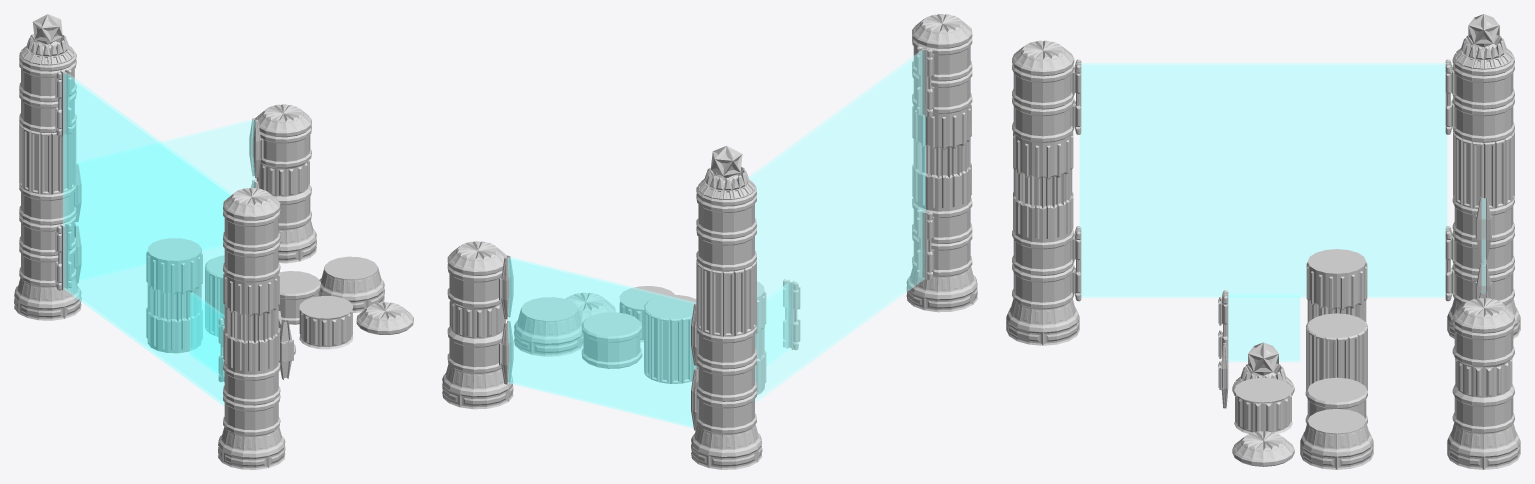
File: ShieldFence.fbx
3 renders of one model, left to right at view 1: azimuth 30°, elevation 25°; view 2: azimuth 150°, elevation 25°; view 3: azimuth 270°, elevation 25°, orthographic. The views are drawn at different scales.
Parts seen in each view (by area): view 1: ShieldFencePillar_ForceField.002, ShieldFencePillar_ForceField.001, ShieldFencePillar_LongPowerPillar.001, ShieldFencePillar_LongPowerPillar.002, ShieldFencePillar_Pillar.001, ShieldFencePillar_Foundation, ShieldFencePillar_PowerPillar, ShieldFencePillar_Foundation.003, ShieldFencePillar_Foundation.002, ShieldFencePillar_ForceField, ShieldFencePillar_Holder.010, ShieldFencePillar_Holder.012 (+22 smaller); view 2: ShieldFencePillar_ForceField.002, ShieldFencePillar_ForceField.001, ShieldFencePillar_LongPowerPillar.002, ShieldFencePillar_Pillar, ShieldFencePillar_Pillar.001, ShieldFencePillar_Foundation, ShieldFencePillar_Holder, ShieldFencePillar_Foundation.002, ShieldFencePillar_Foundation.003, ShieldFencePillar_Foundation.001, ShieldFencePillar_Holder.002, ShieldFencePillar_Holder.006 (+23 smaller); view 3: ShieldFencePillar_ForceField.002, ShieldFencePillar_LongPowerPillar.002, ShieldFencePillar_ForceField, ShieldFencePillar_Pillar.001, ShieldFencePillar_Pillar, ShieldFencePillar_LongPowerPillar.001, ShieldFencePillar_Foundation, ShieldFencePillar_PowerPillar, ShieldFencePillar_Foundation.003, ShieldFencePillar_Foundation.001, ShieldFencePillar_Holder.001, ShieldFencePillar_Holder.003 (+24 smaller).
Boxes of the visible parts, x1,y1,x2,y2 form: ShieldFencePillar_ForceField.002: (63, 72, 231, 406); ShieldFencePillar_ForceField.001: (76, 119, 254, 280); ShieldFencePillar_LongPowerPillar.001: (146, 238, 202, 353); ShieldFencePillar_LongPowerPillar.002: (223, 273, 279, 374); ShieldFencePillar_Pillar.001: (19, 122, 76, 194); ShieldFencePillar_Foundation: (319, 256, 384, 312); ShieldFencePillar_PowerPillar: (299, 296, 353, 349); ShieldFencePillar_Foundation.003: (218, 427, 285, 469); ShieldFencePillar_Foundation.002: (14, 277, 81, 320); ShieldFencePillar_ForceField: (190, 293, 224, 374); ShieldFencePillar_Holder.010: (223, 361, 280, 405); ShieldFencePillar_Holder.012: (223, 209, 280, 251); ShieldFencePillar_ForceField.002: (748, 50, 925, 402); ShieldFencePillar_ForceField.001: (508, 257, 696, 427); ShieldFencePillar_LongPowerPillar.002: (912, 104, 971, 211); ShieldFencePillar_Pillar: (644, 295, 698, 383); ShieldFencePillar_Pillar.001: (696, 259, 756, 336); ShieldFencePillar_Foundation: (514, 297, 583, 356); ShieldFencePillar_Holder: (581, 312, 642, 368); ShieldFencePillar_Foundation.002: (691, 424, 762, 469); ShieldFencePillar_Foundation.003: (906, 267, 977, 312); ShieldFencePillar_Foundation.001: (442, 364, 513, 409); ShieldFencePillar_Holder.002: (696, 389, 756, 434); ShieldFencePillar_Holder.006: (696, 227, 756, 271); ShieldFencePillar_ForceField.002: (1080, 63, 1446, 297); ShieldFencePillar_LongPowerPillar.002: (1013, 132, 1073, 242); ShieldFencePillar_ForceField: (1228, 294, 1299, 361); ShieldFencePillar_Pillar.001: (1453, 130, 1514, 208); ShieldFencePillar_Pillar: (1306, 313, 1367, 390); ShieldFencePillar_LongPowerPillar.001: (1306, 249, 1367, 324); ShieldFencePillar_Foundation: (1300, 409, 1373, 469); ShieldFencePillar_PowerPillar: (1234, 377, 1292, 433); ShieldFencePillar_Foundation.003: (1006, 299, 1079, 345); ShieldFencePillar_Foundation.001: (1447, 423, 1520, 469); ShieldFencePillar_Holder.001: (1452, 384, 1514, 433); ShieldFencePillar_Holder.003: (1452, 321, 1514, 366).
Size of the model in its own units: 500 by 497 by 700.
